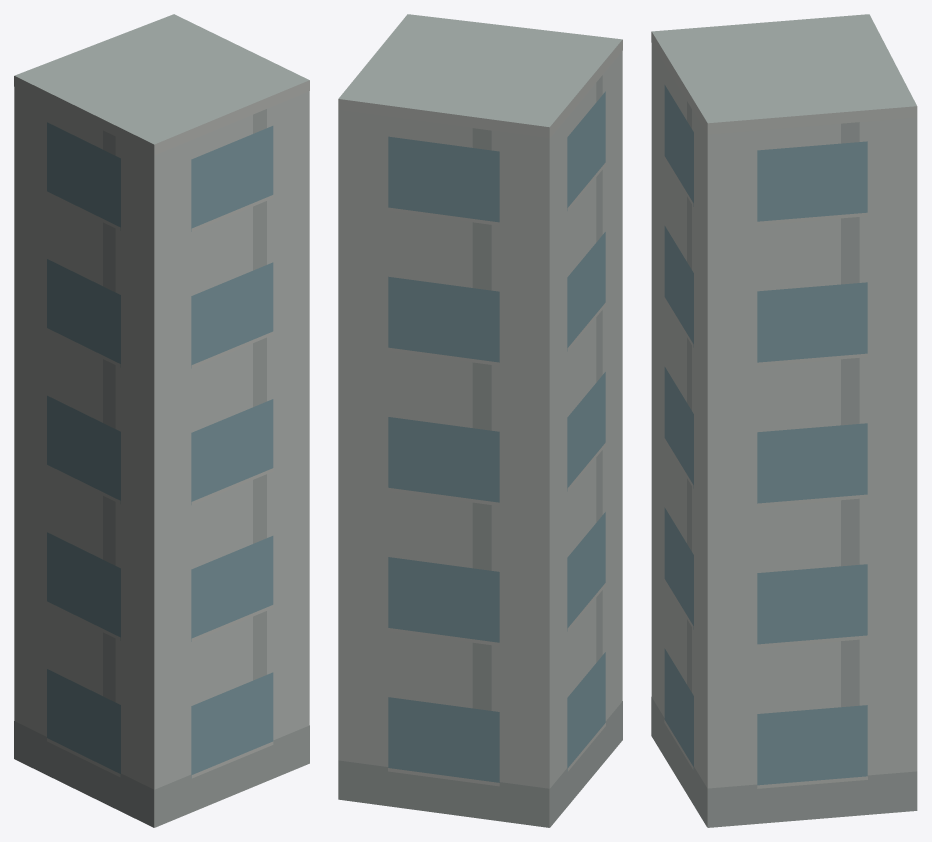
Rendered from survey-upis-32932456.glb.
3 views of the same model, side by side, from view 1: azimuth 30°, elevation 25°; view 2: azimuth 150°, elevation 25°; view 3: azimuth 270°, elevation 25° (orthographic). The views are drawn at different scales.
Visible parts, largest first — view 1: survey-upis-32932456.tmp; view 2: survey-upis-32932456.tmp; view 3: survey-upis-32932456.tmp.
Boxes of the visible parts, bbox=[...] form: survey-upis-32932456.tmp: bbox=[14, 14, 309, 827]; survey-upis-32932456.tmp: bbox=[338, 14, 622, 827]; survey-upis-32932456.tmp: bbox=[651, 14, 917, 827].
Bounding box in the file's own units: 5.08 × 15.25 × 5.22.
